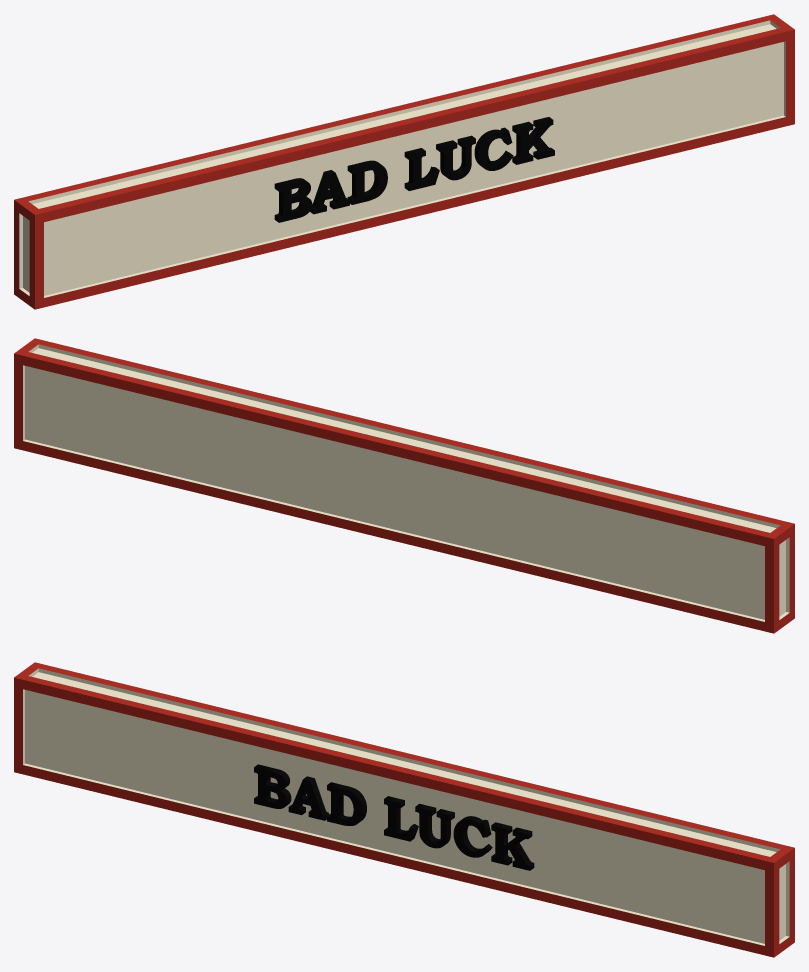
File: badLuck.glb
The picture shows the model from 3 angles, top to bottom: view 1: azimuth 30°, elevation 25°; view 2: azimuth 150°, elevation 25°; view 3: azimuth 330°, elevation 25°; orthographic projection.
Visible parts, largest first — view 1: Button.008, Text.007; view 2: Button.008; view 3: Button.008, Text.007.
Part boxes in pixels (x1=…): Button.008: x1=14, y1=14, x2=794, y2=309; Text.007: x1=274, y1=117, x2=554, y2=222; Button.008: x1=14, y1=338, x2=794, y2=633; Button.008: x1=14, y1=662, x2=794, y2=957; Text.007: x1=254, y1=764, x2=534, y2=870.
Size of the model in its own units: 10.5 by 1.25 by 0.5501.
